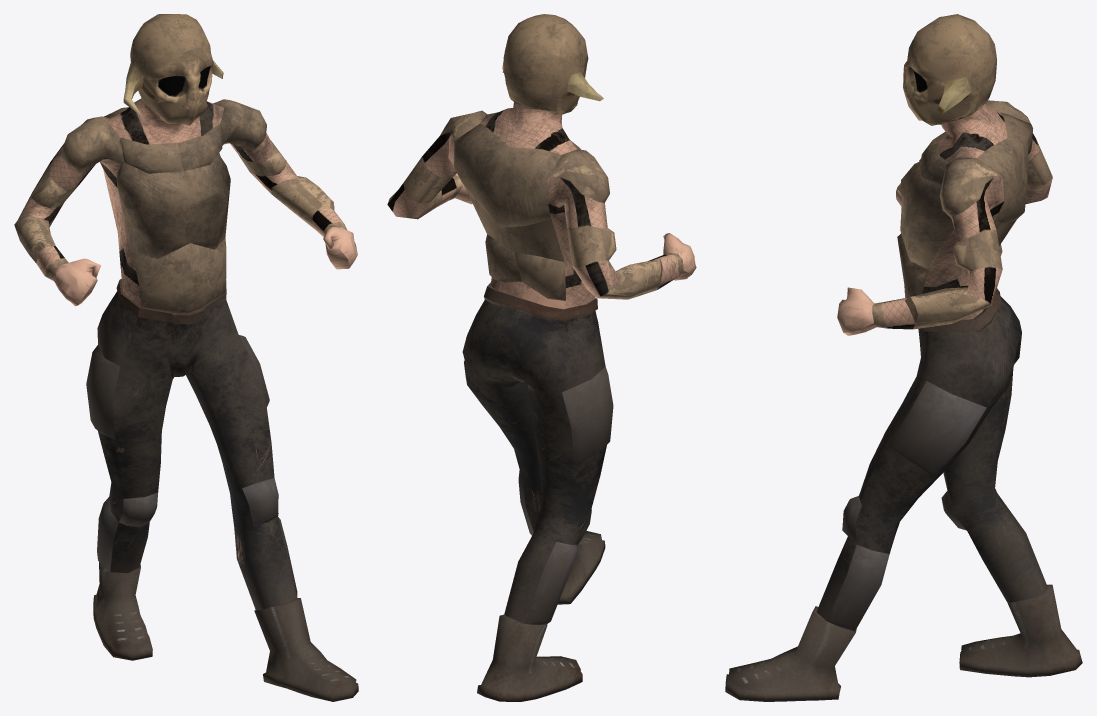
Rendered from Anim_ataque_d1_npc1.0028.obj.
The picture shows the model from 3 angles, left to right: view 1: azimuth 30°, elevation 25°; view 2: azimuth 150°, elevation 25°; view 3: azimuth 270°, elevation 25°; orthographic projection. The views are drawn at different scales.
Visible parts, largest first — view 1: NPC2; view 2: NPC2; view 3: NPC2.
Boxes of the visible parts, x1,y1,x2,y2 form: NPC2: (14, 14, 358, 701); NPC2: (387, 14, 696, 701); NPC2: (725, 14, 1082, 701).
Bounding box in the file's own units: 4.23 × 9.37 × 4.61.
